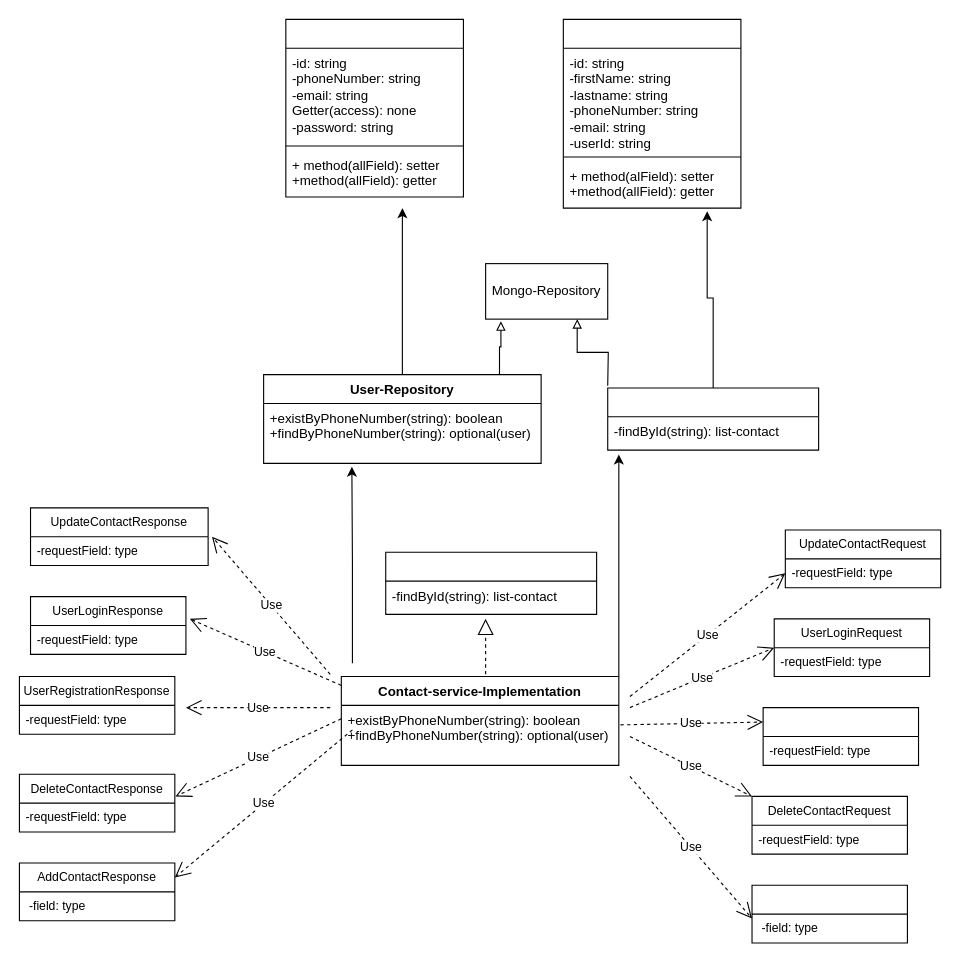
Some shapes in this 960 by 966 pixel diagram are drawn without their labels. Each missing label, with the box of its shape:
AddContactRequest: (751, 884, 907, 943)
Contact: (562, 18, 741, 208)
Contact-Repository: (607, 387, 819, 450)
Contact-Service: (385, 551, 597, 614)
User: (285, 18, 463, 197)
UserRegistrationRequest: (762, 707, 919, 765)
